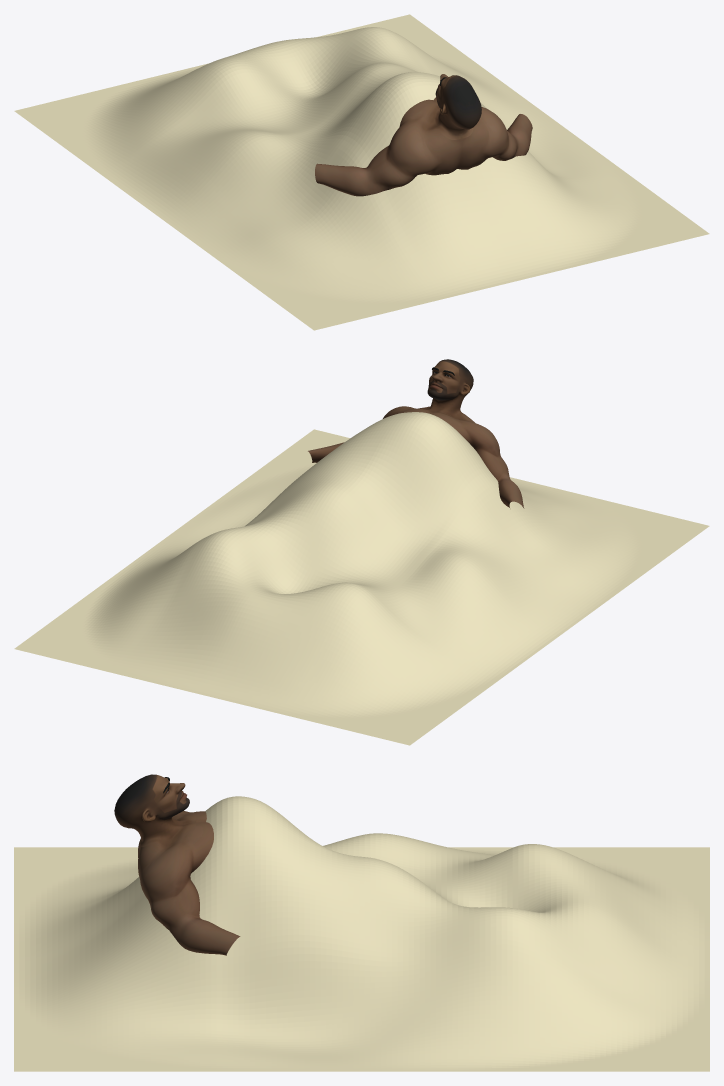
Rendered from sandMan.gltf.
3 views of the same model, one above another, from view 1: azimuth 30°, elevation 25°; view 2: azimuth 150°, elevation 25°; view 3: azimuth 270°, elevation 25° (orthographic). The views are drawn at different scales.
Parts seen in each view (by area): view 1: SandMountain, MESH_T_12.001, MESH_T_00_9.001; view 2: SandMountain, MESH_T_12.001, MESH_T_00_9.001; view 3: SandMountain, MESH_T_12.001, MESH_T_00_9.001.
Boxes of the visible parts, bbox=[...] form: SandMountain: bbox=[14, 14, 709, 330]; MESH_T_12.001: bbox=[315, 97, 532, 196]; MESH_T_00_9.001: bbox=[419, 74, 481, 139]; SandMountain: bbox=[14, 412, 709, 745]; MESH_T_12.001: bbox=[308, 406, 524, 508]; MESH_T_00_9.001: bbox=[412, 359, 473, 419]; SandMountain: bbox=[14, 796, 709, 1071]; MESH_T_12.001: bbox=[138, 811, 240, 955]; MESH_T_00_9.001: bbox=[114, 774, 196, 847].
Size of the model in its own units: 2.02 by 0.7848 by 2.65.
